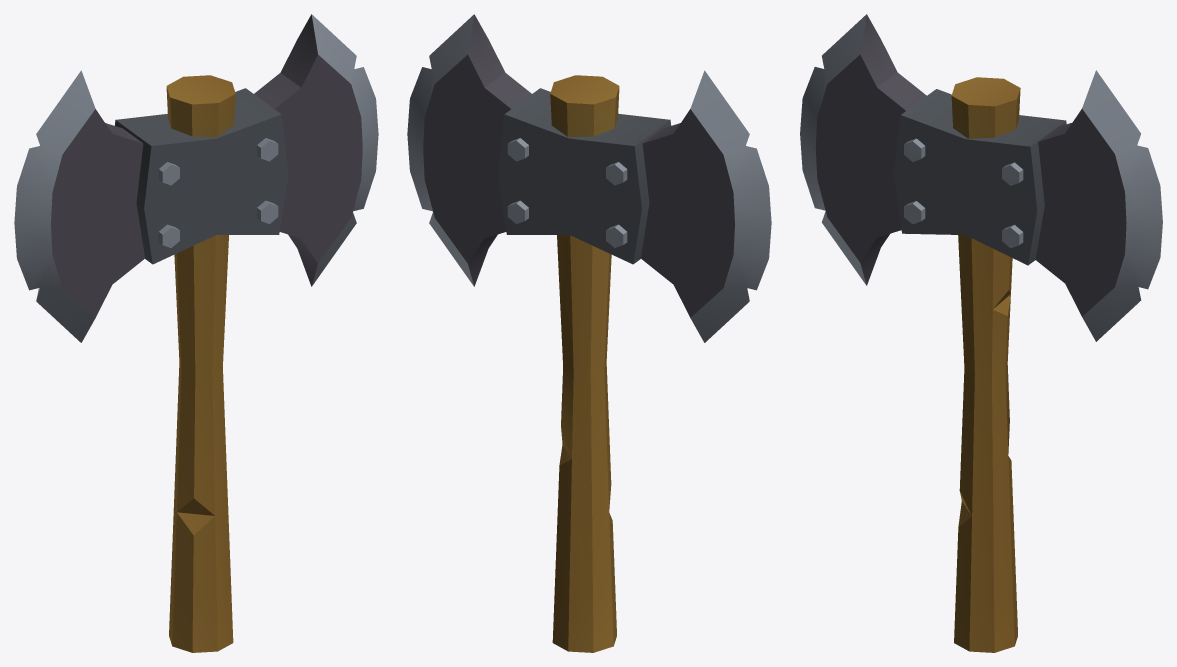
The model's file is starter_axe.fbx.
3 views of the same model, side by side, from view 1: azimuth 30°, elevation 25°; view 2: azimuth 150°, elevation 25°; view 3: azimuth 330°, elevation 25° (orthographic).
Parts seen in each view (by area): view 1: starter_axe; view 2: starter_axe; view 3: starter_axe.
Part boxes in pixels (x1,y1,x2,y2): starter_axe: [14, 14, 378, 652]; starter_axe: [407, 14, 771, 652]; starter_axe: [800, 14, 1162, 652].
Size of the model in its own units: 0.6382 by 1 by 0.1331.
